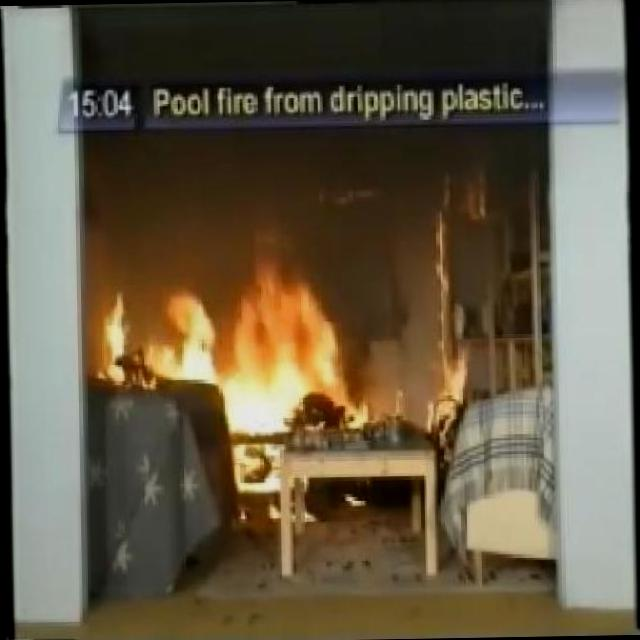fire: (91, 260, 372, 428)
